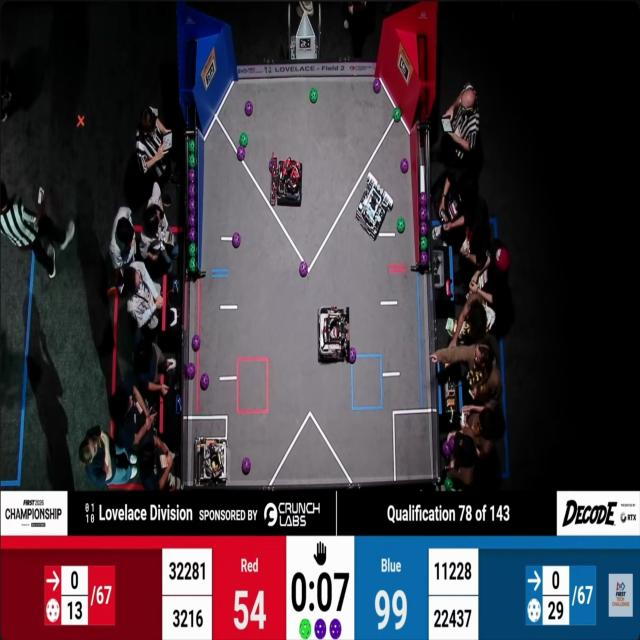artifact_green: (299, 619, 312, 640), (397, 217, 405, 233), (393, 107, 401, 122), (310, 88, 318, 103), (240, 133, 248, 147), (445, 477, 453, 490), (189, 243, 196, 257), (420, 237, 427, 251), (189, 258, 196, 271), (189, 154, 195, 168), (189, 140, 195, 153)
artifact_purple: (330, 619, 341, 639), (315, 619, 326, 639), (443, 438, 454, 457), (242, 457, 251, 475), (200, 373, 209, 391), (187, 363, 196, 380), (232, 232, 241, 248), (299, 261, 308, 277), (192, 335, 200, 351), (401, 158, 409, 173), (420, 221, 428, 236), (245, 101, 253, 116), (349, 347, 356, 364), (237, 147, 245, 161), (373, 79, 381, 93), (189, 228, 196, 242), (420, 207, 427, 221), (421, 252, 428, 265), (188, 184, 195, 197), (420, 193, 427, 206), (189, 169, 195, 183), (189, 199, 195, 213), (269, 158, 275, 172), (189, 214, 195, 227)
